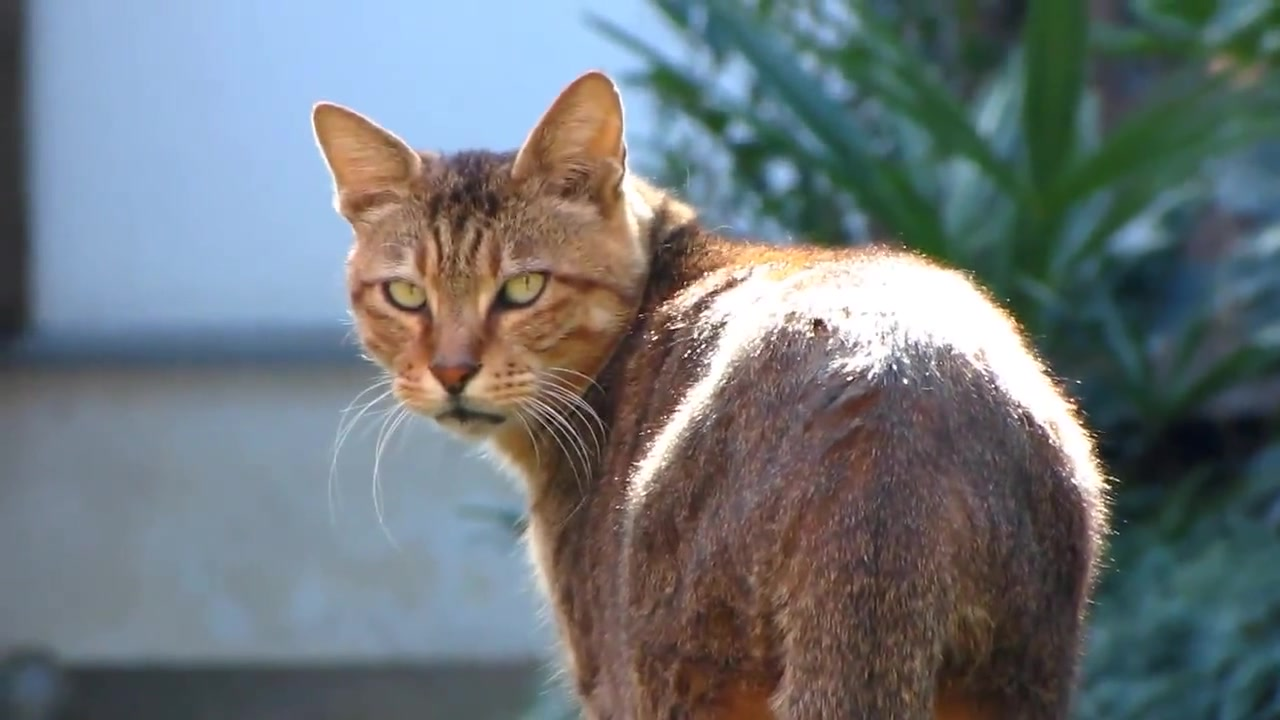cat: (309, 67, 1116, 720)
